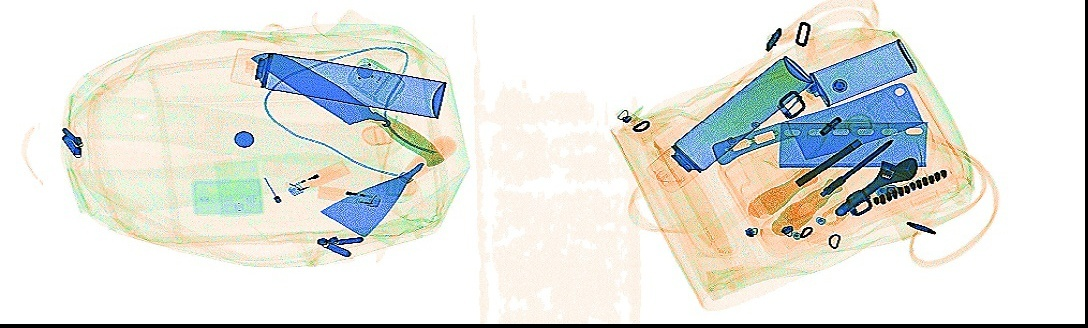knife: (249, 51, 445, 167), (710, 80, 924, 165)
lighter: (286, 157, 349, 195), (314, 182, 380, 207)
pressure: (645, 53, 814, 194), (229, 45, 447, 119)
zippooil: (805, 37, 917, 108)
